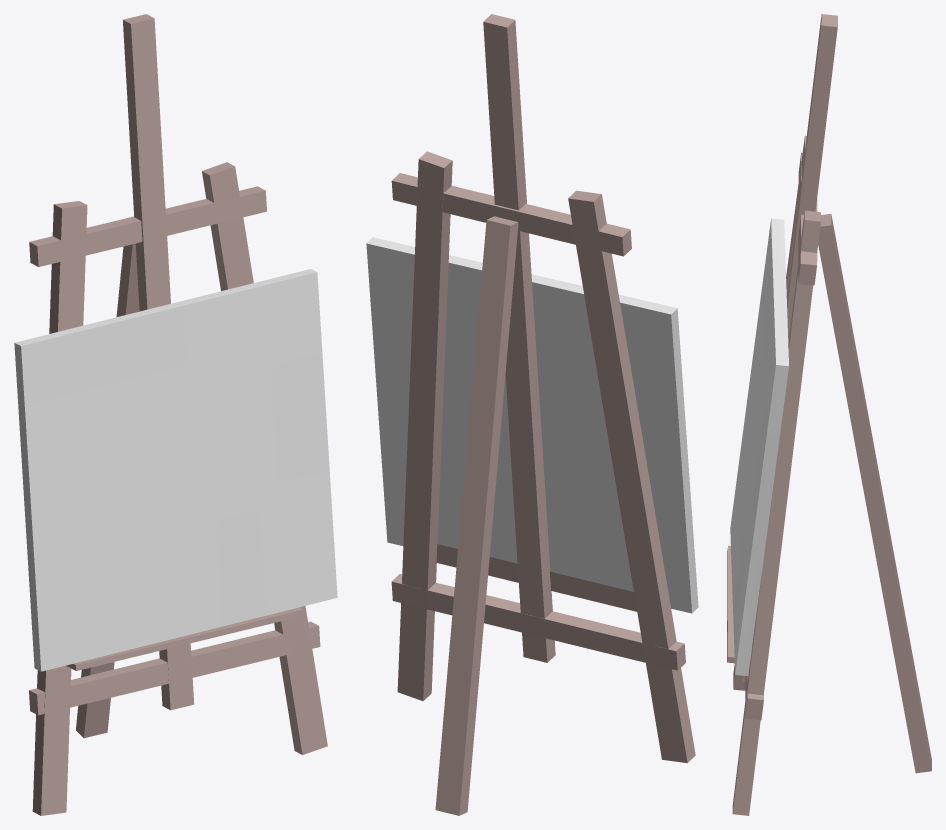
Rendered from entertainment_026.glb.
3 views of the same model, side by side, from view 1: azimuth 30°, elevation 25°; view 2: azimuth 150°, elevation 25°; view 3: azimuth 270°, elevation 25° (orthographic).
Visible parts, largest first — view 1: entertainment_026; view 2: entertainment_026; view 3: entertainment_026.
Boxes of the visible parts, box(x1,y1,x2,y2) form: entertainment_026: box(14, 14, 337, 815); entertainment_026: box(366, 14, 698, 815); entertainment_026: box(727, 14, 931, 815).
Size of the model in its own units: 1.15 by 2.75 by 0.6821.
1 material, 1 textured.
